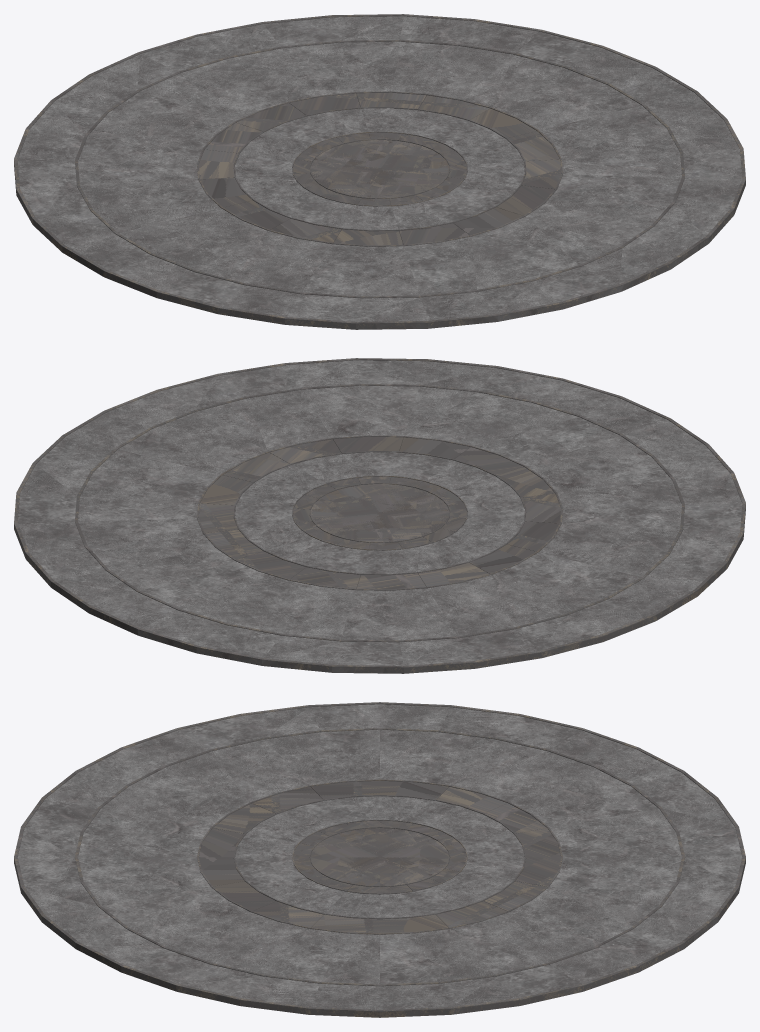
Rendered from BossRoomField.fbx.
3 renders of one model, top to bottom at view 1: azimuth 30°, elevation 25°; view 2: azimuth 150°, elevation 25°; view 3: azimuth 270°, elevation 25°, orthographic.
Visible parts, largest first — view 1: Field; view 2: Field; view 3: Field.
Part boxes in pixels (x1,y1,x2,y2): Field: (14, 14, 745, 329); Field: (14, 358, 745, 673); Field: (14, 702, 745, 1017).
Size of the model in its own units: 22954 by 220 by 22954.
